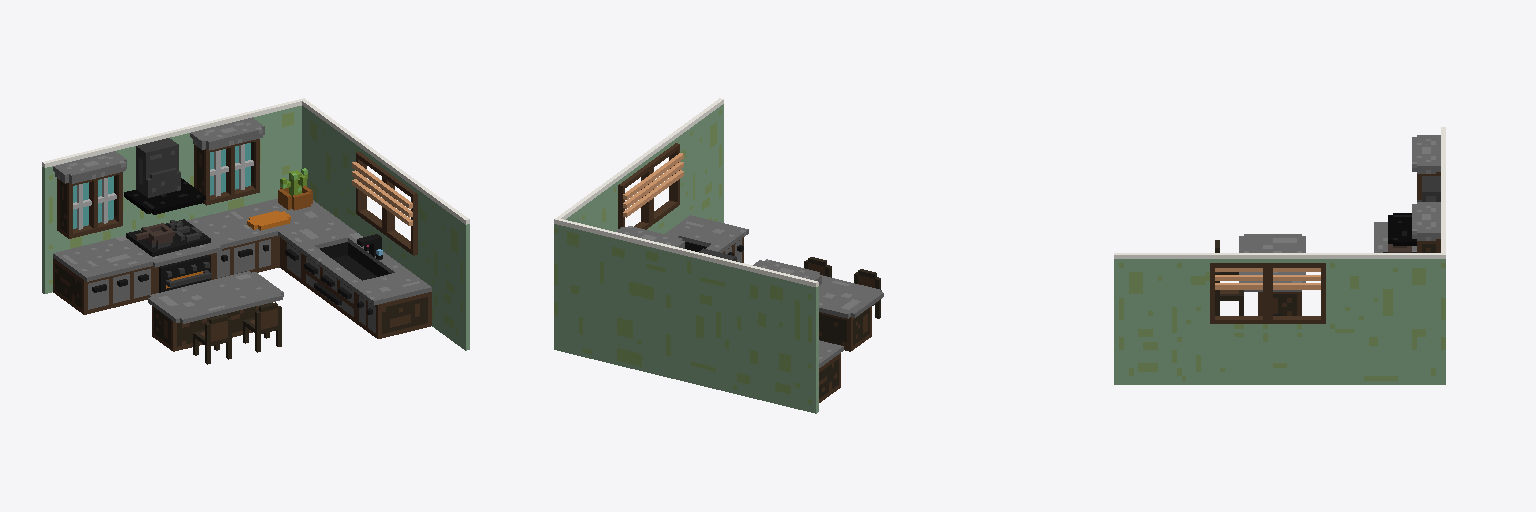
3 views of the same model, side by side, from view 1: azimuth 30°, elevation 25°; view 2: azimuth 150°, elevation 25°; view 3: azimuth 270°, elevation 25° (orthographic).
Parts seen in each view (by area): view 1: object 1; view 2: object 1; view 3: object 1.
Part boxes in pixels (left/top/right/bottom): object 1: left=42, top=98, right=469, bottom=364; object 1: left=554, top=98, right=883, bottom=413; object 1: left=1114, top=127, right=1445, bottom=384.
Size of the model in its own units: 6.3 by 3 by 6.9.
1 materials, 1 textured.